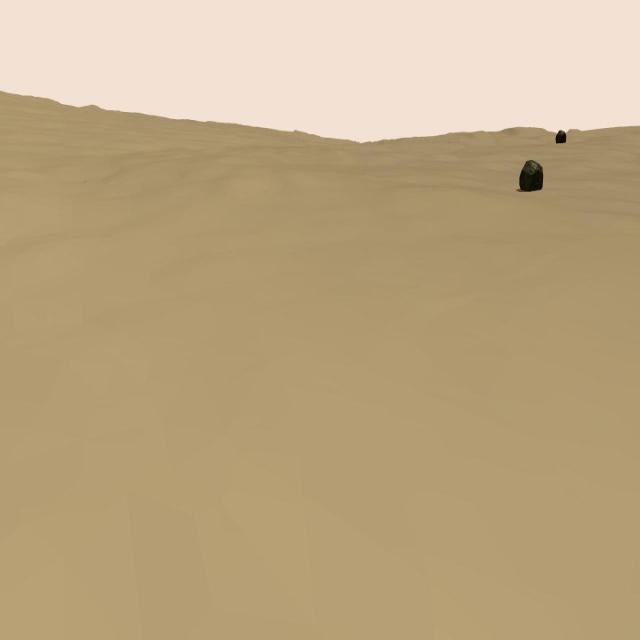rock: (520, 160, 543, 192), (555, 129, 566, 145)
